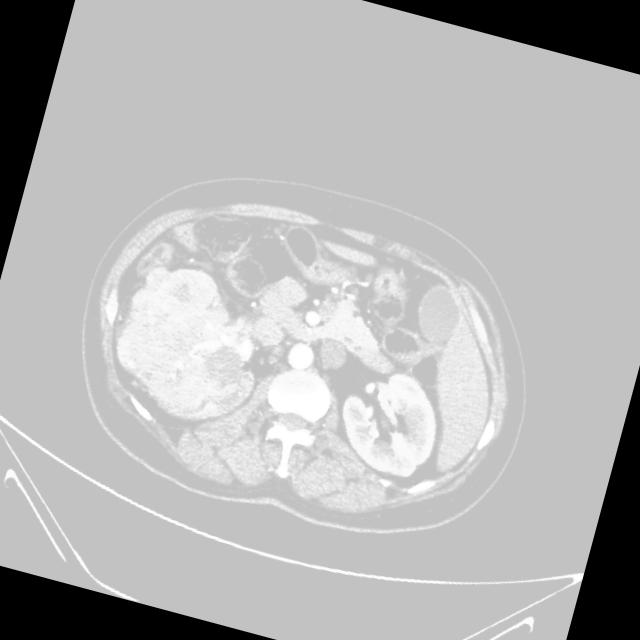TUMOR: (0, 222, 497, 537)
